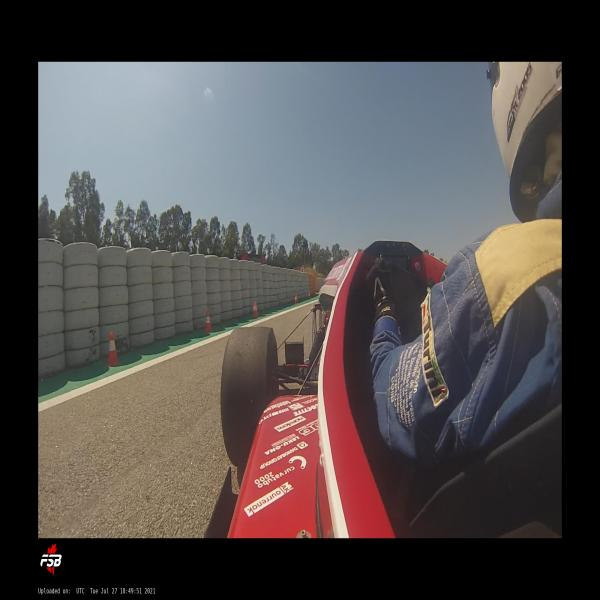orange_cone: (107, 331, 119, 367), (204, 311, 212, 333), (252, 302, 258, 318), (294, 294, 298, 304), (308, 291, 311, 298)
